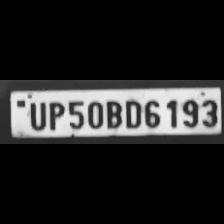0: (84, 97, 104, 129)
1: (162, 96, 180, 128)
3: (199, 96, 219, 128)
5: (64, 98, 86, 130)
6: (140, 97, 162, 129)
9: (178, 96, 200, 128)
B: (102, 97, 122, 129)
D: (122, 97, 142, 129)
P: (44, 99, 64, 130)
U: (25, 99, 48, 130)
